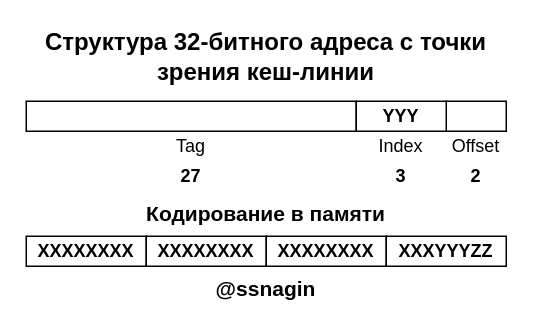
The diagram is 533 pixels wide and 336 high, and some of its shapes have lost their labels. Each missing label, with the centre of its shape:
"XXXXXXXXXXXXXXXXXXXXXXXXX" goes at (190,115).
"ZZ" goes at (475,115).
